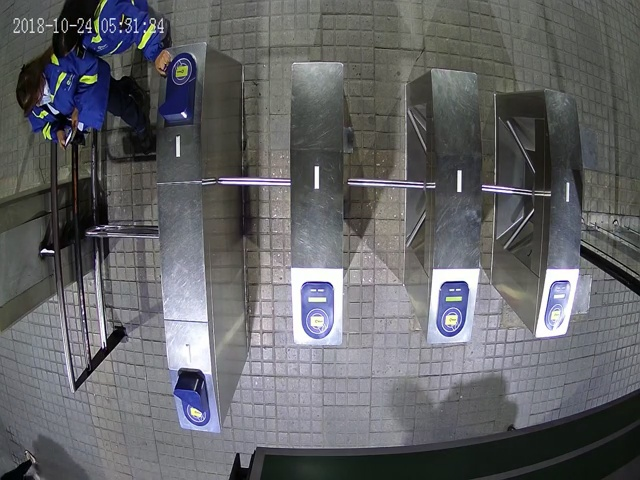Chaleco_azul: (16, 48, 150, 147), (53, 1, 171, 76)
